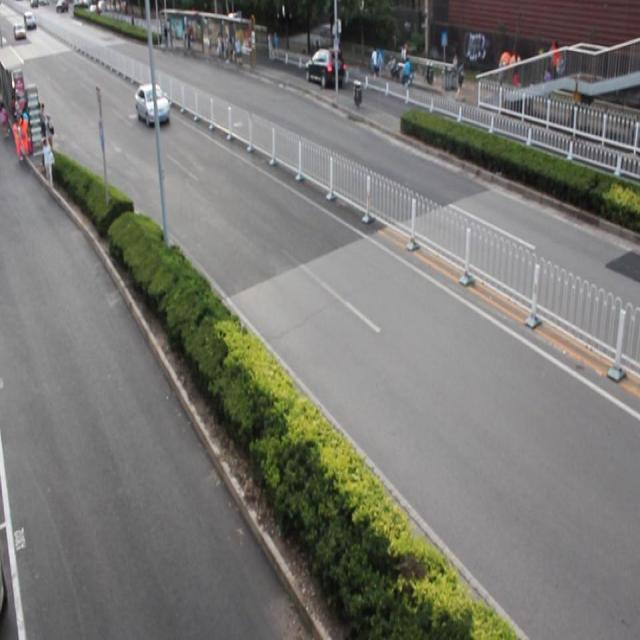car: (306, 50, 345, 87), (134, 84, 169, 125)
